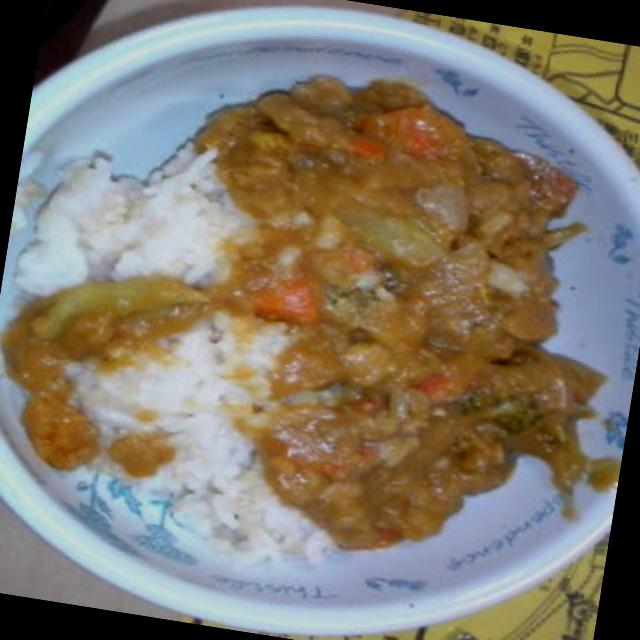Beef Curry: (260, 118, 534, 500)
